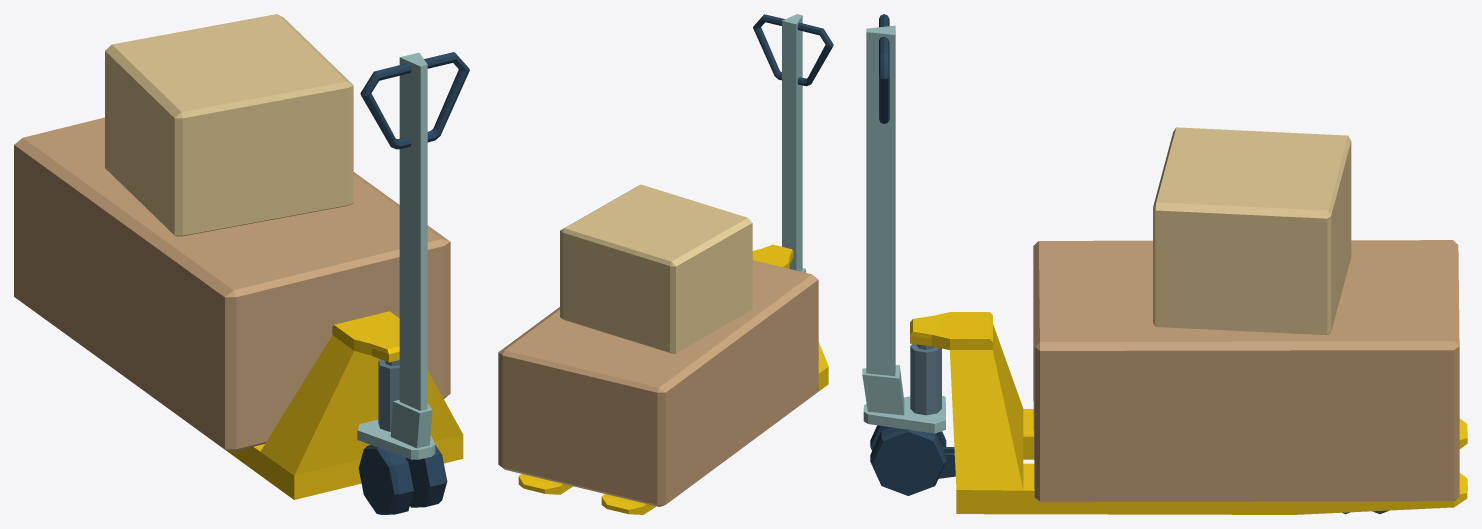
The model's file is Prop_Pallet_Truck_WB_B.fbx.
The picture shows the model from 3 angles, left to right: view 1: azimuth 30°, elevation 25°; view 2: azimuth 150°, elevation 25°; view 3: azimuth 270°, elevation 25°; orthographic projection. The views are drawn at different scales.
Visible parts, largest first — view 1: Prop_Pallet_Truck_WB_B; view 2: Prop_Pallet_Truck_WB_B; view 3: Prop_Pallet_Truck_WB_B.
Part boxes in pixels (x1,y1,x2,y2): Prop_Pallet_Truck_WB_B: (14, 14, 469, 514); Prop_Pallet_Truck_WB_B: (498, 14, 833, 514); Prop_Pallet_Truck_WB_B: (862, 14, 1467, 514).
Size of the model in its own units: 153 by 66.03 by 127.
